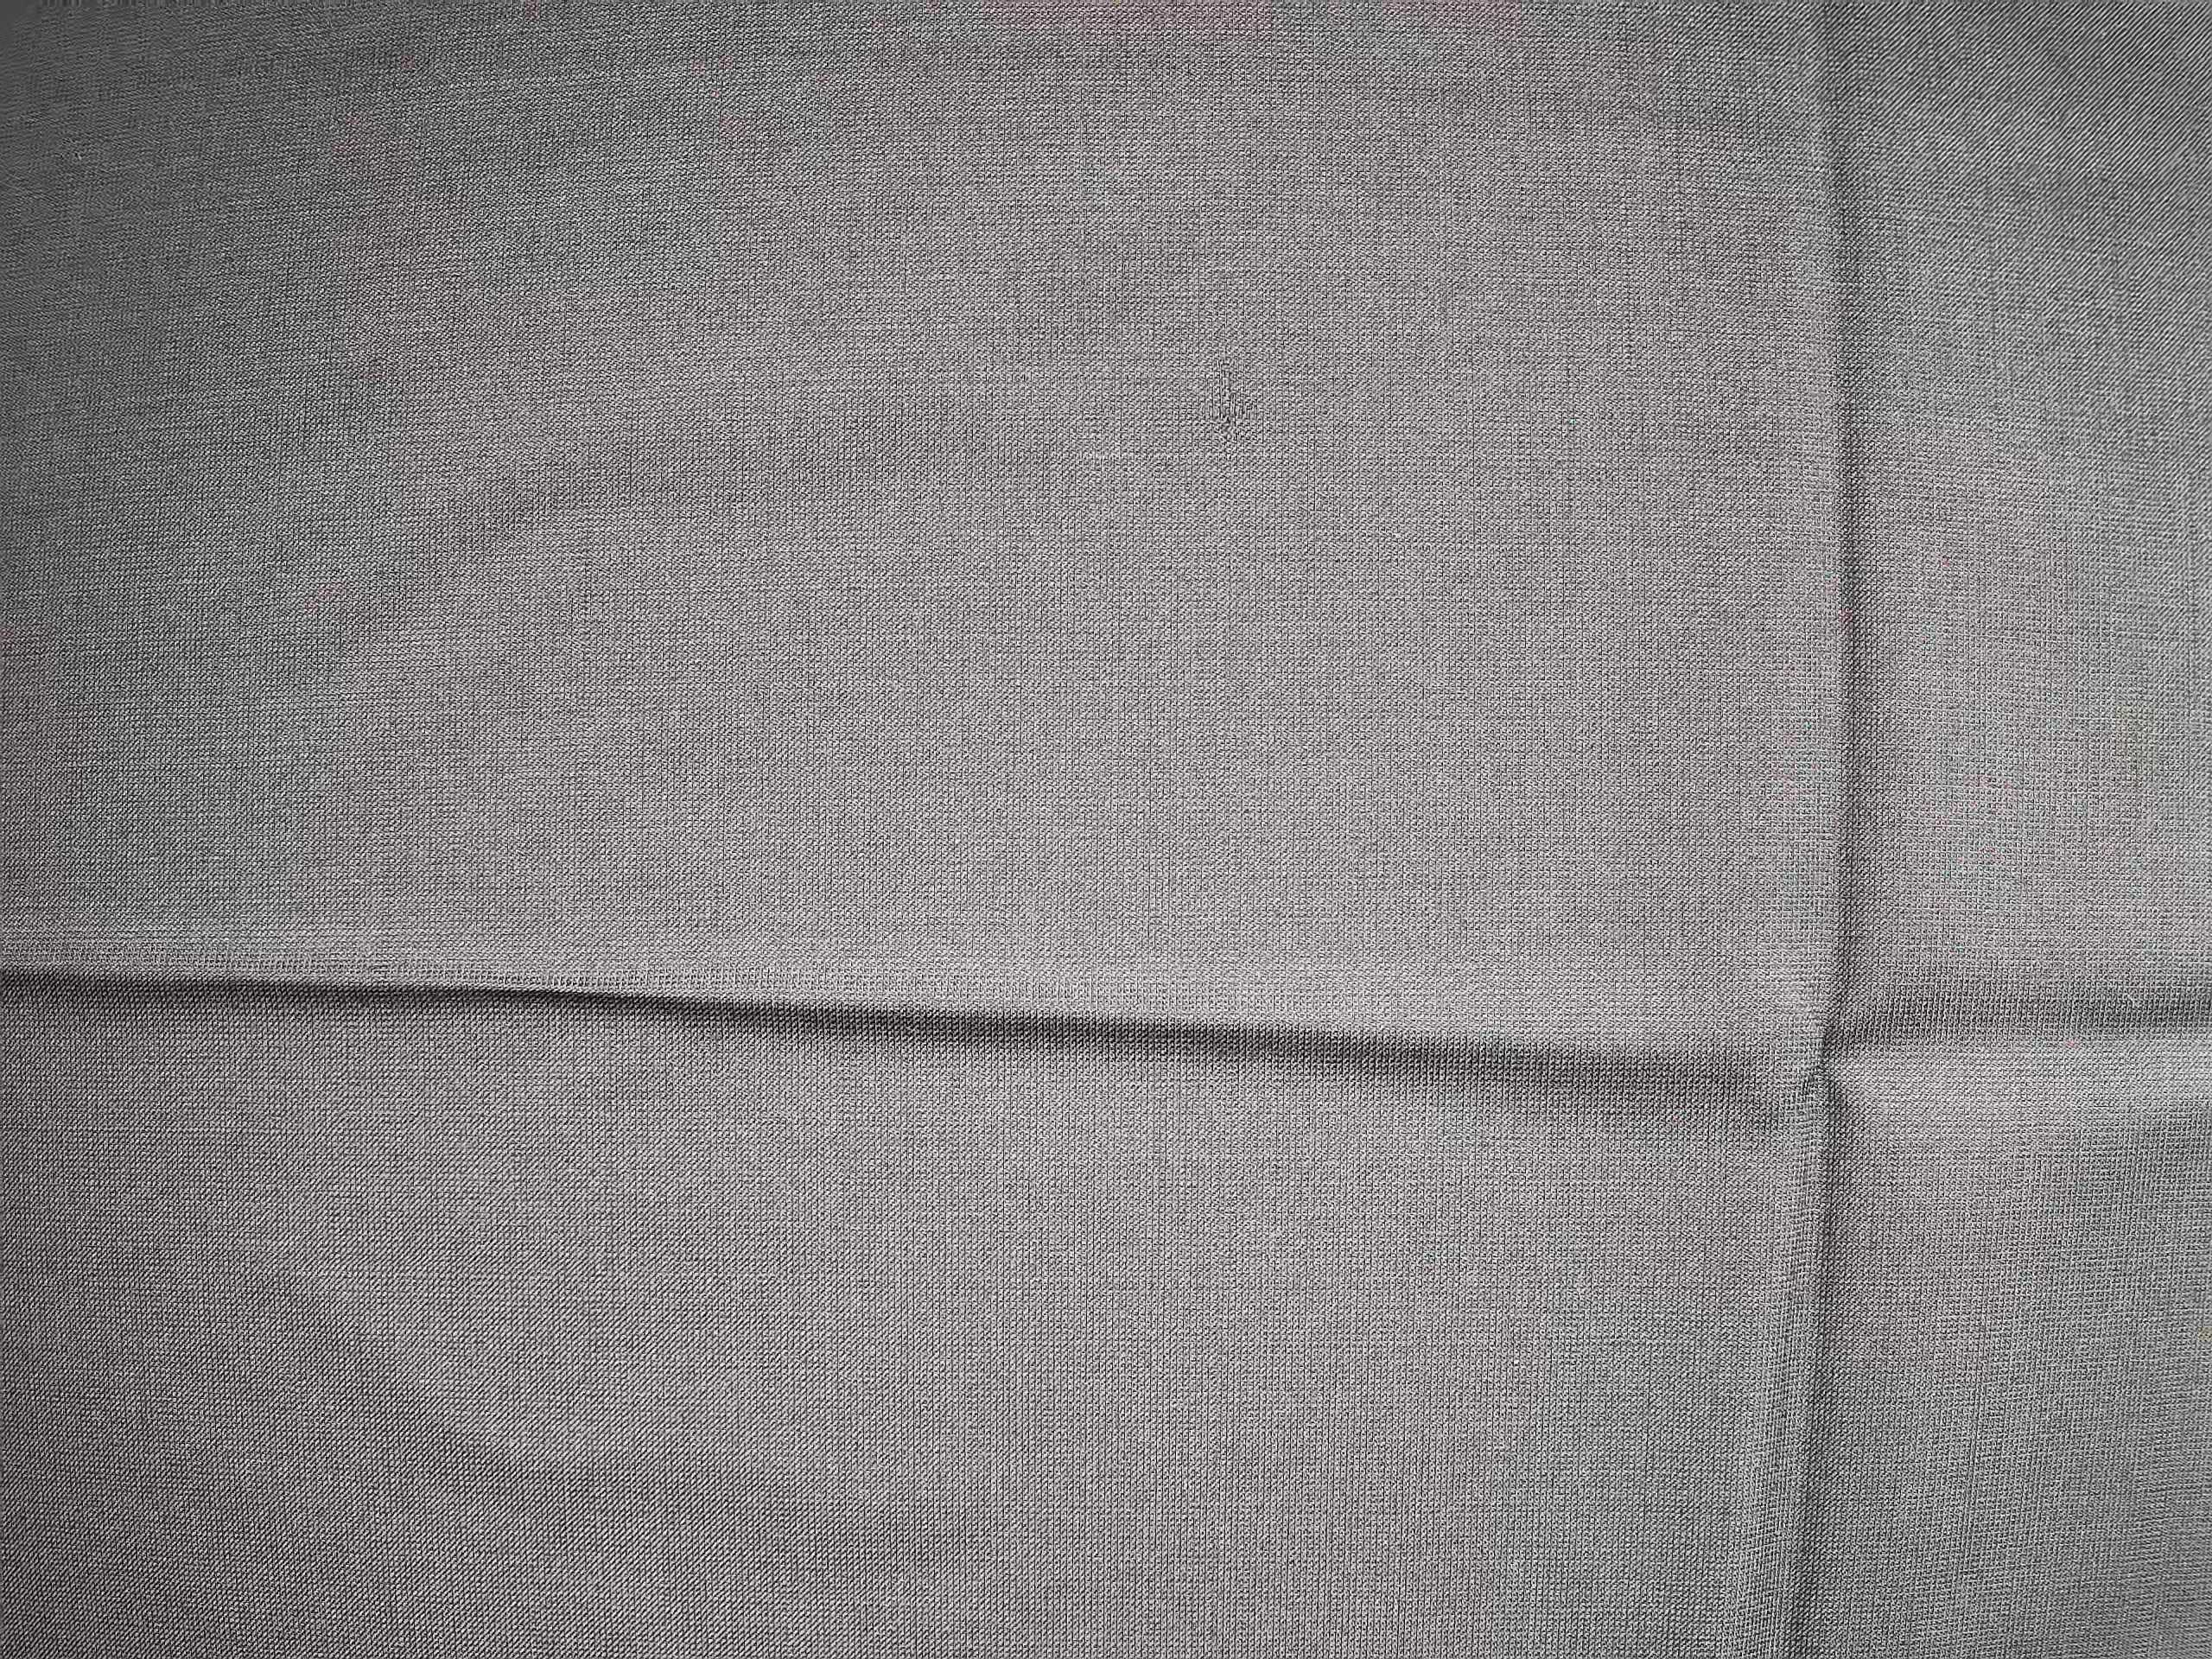knots: (1184, 336, 1287, 469)
